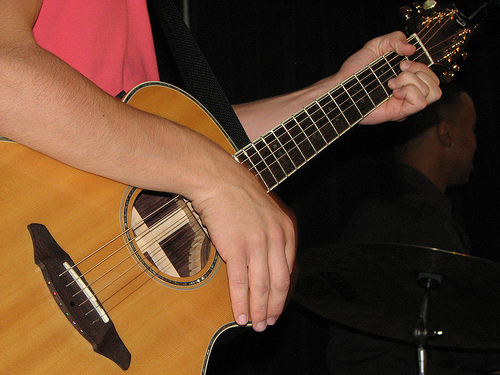guitar: (1, 1, 484, 375)
